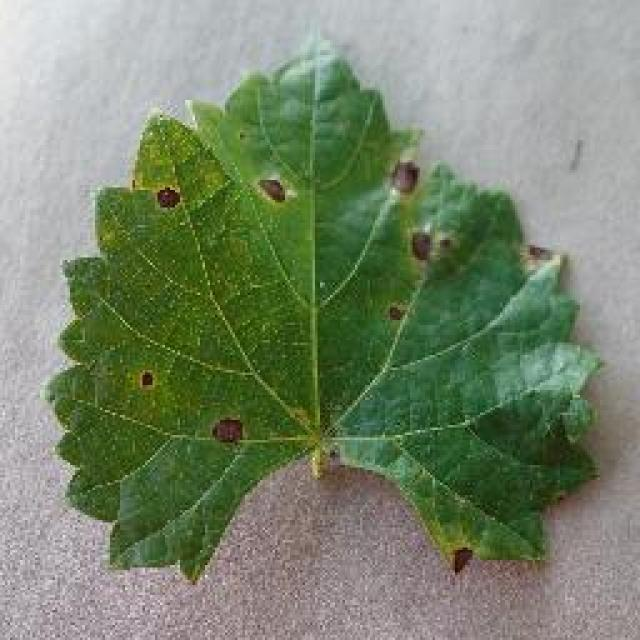Grape___Black_rot: (38, 31, 605, 593)
